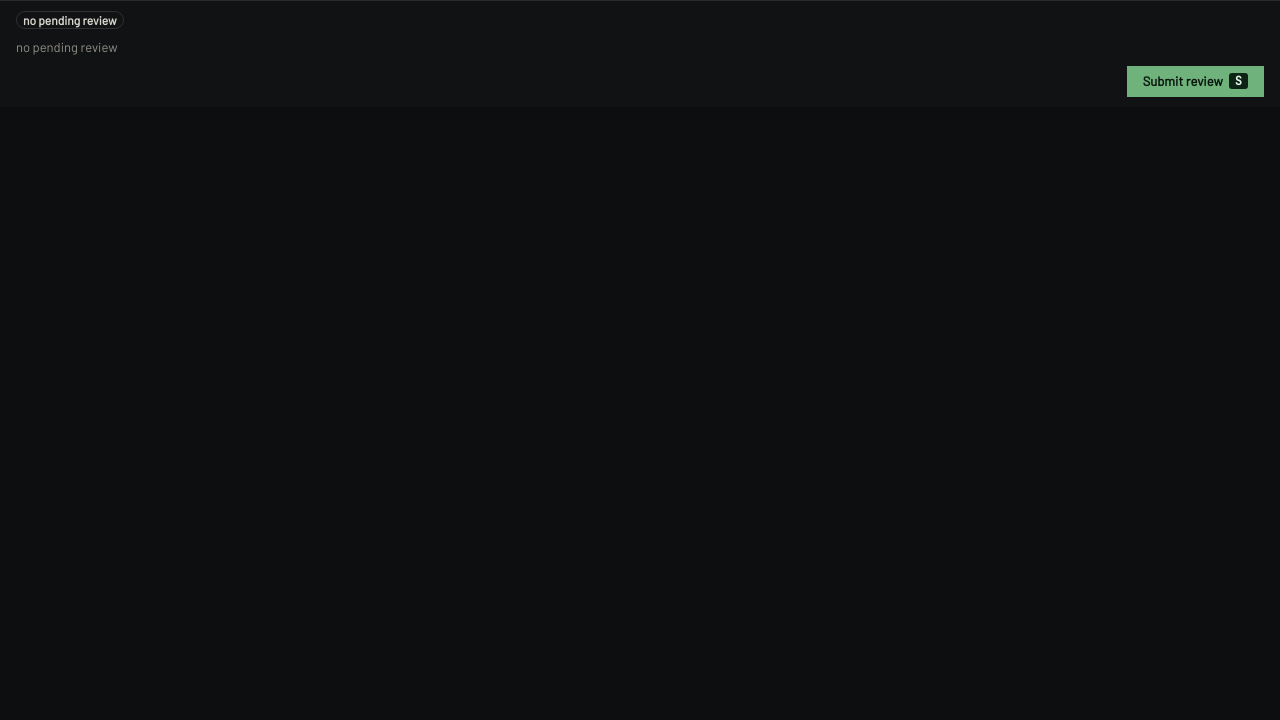
Test: the Review panel › submits on its button as S does, asking for the summary first
Click the button "Submit review S" at (1195, 81), box [1127, 66, 1264, 97]
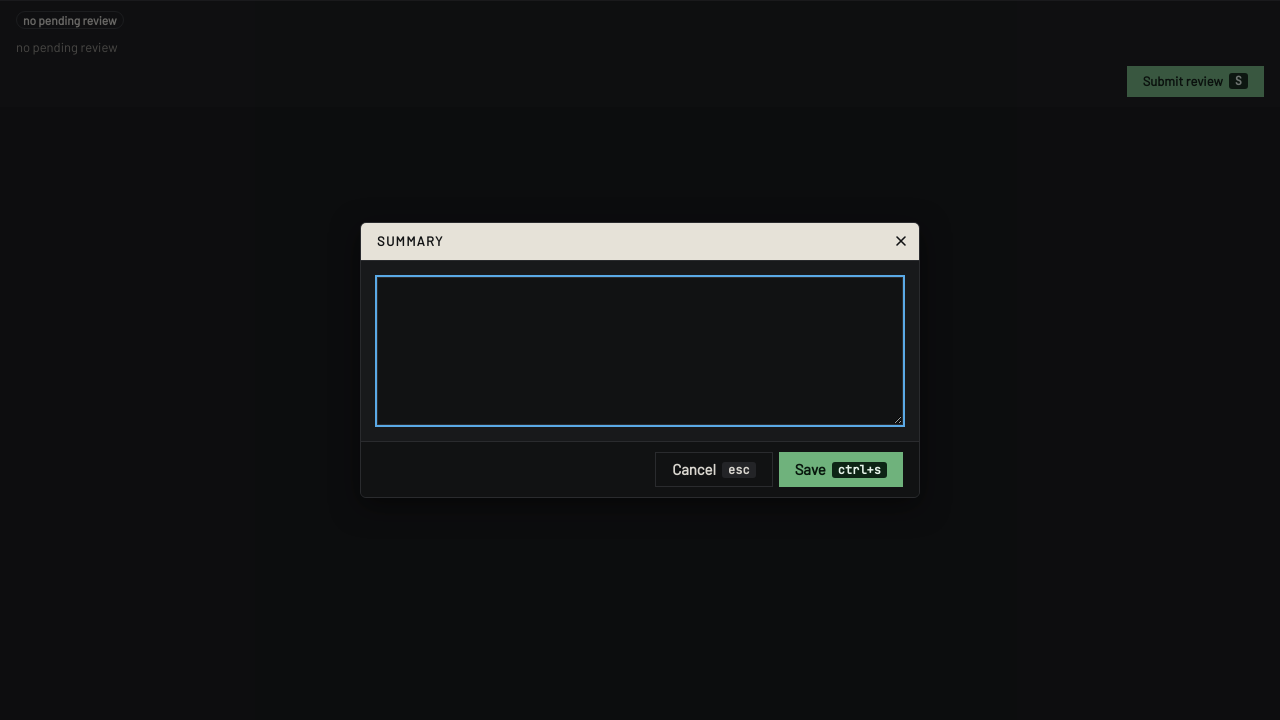
Expected: the dialog "Summary" is shown, [360, 222, 920, 498]
